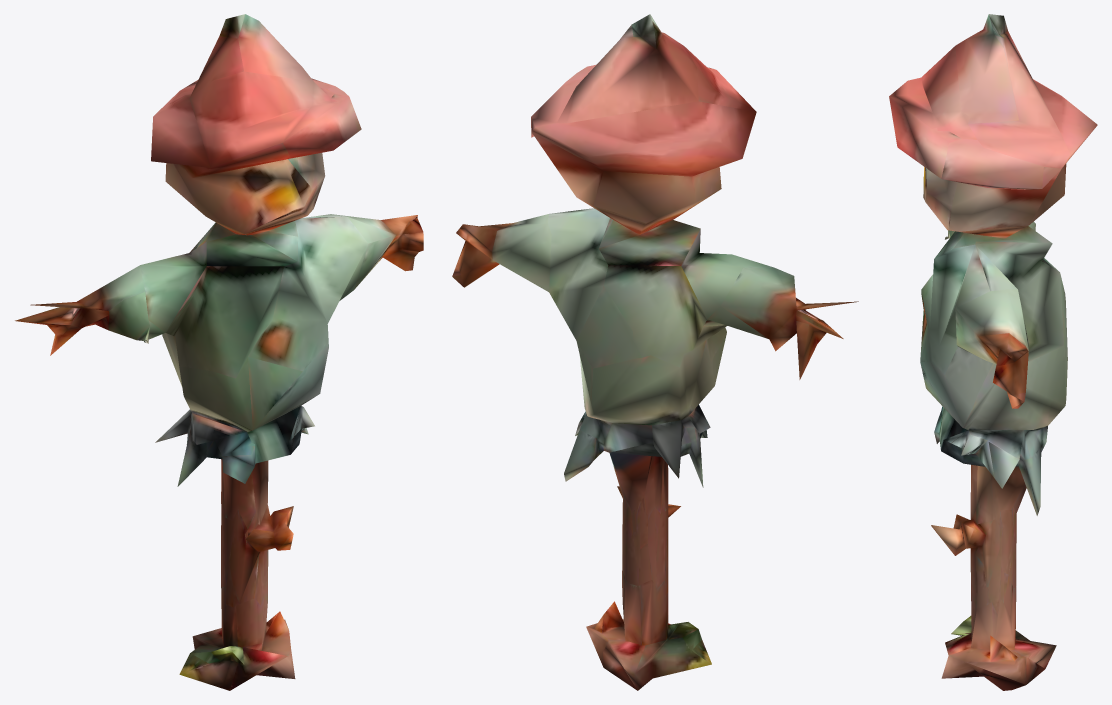
The model's file is scarecrow.glb.
The picture shows the model from 3 angles, left to right: view 1: azimuth 30°, elevation 25°; view 2: azimuth 150°, elevation 25°; view 3: azimuth 270°, elevation 25°; orthographic projection.
Parts seen in each view (by area): view 1: tripo_node_f22069a1-59ba-4ab3-acc4-b9df4115af4a; view 2: tripo_node_f22069a1-59ba-4ab3-acc4-b9df4115af4a; view 3: tripo_node_f22069a1-59ba-4ab3-acc4-b9df4115af4a.
Boxes of the visible parts, left/top/right/bottom form: tripo_node_f22069a1-59ba-4ab3-acc4-b9df4115af4a: left=15, top=14, right=423, bottom=690; tripo_node_f22069a1-59ba-4ab3-acc4-b9df4115af4a: left=452, top=14, right=858, bottom=690; tripo_node_f22069a1-59ba-4ab3-acc4-b9df4115af4a: left=889, top=14, right=1097, bottom=690.
Size of the model in its own units: 0.598 by 0.9483 by 0.2705.
1 material, 1 textured.
